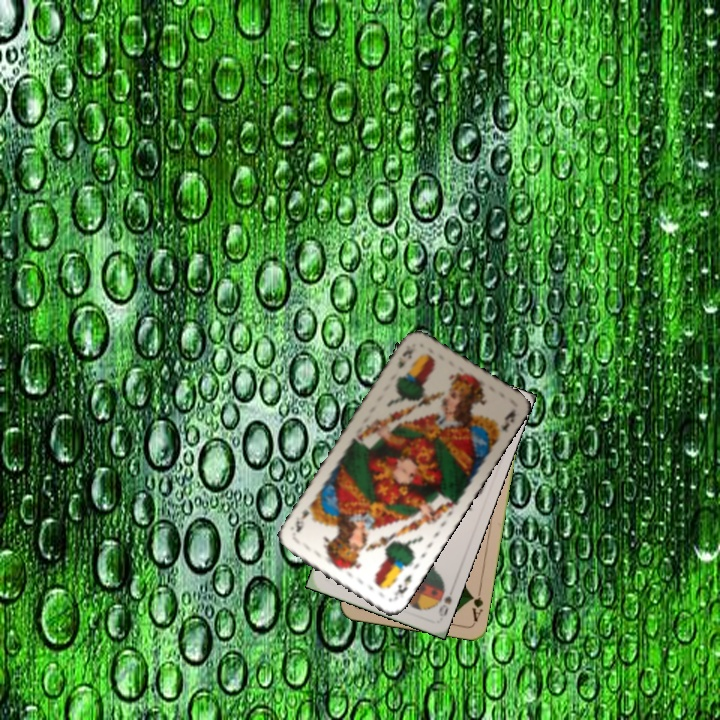EK: (390, 570, 414, 602), (394, 343, 418, 371)
GA: (467, 584, 486, 624)
SO: (430, 578, 454, 619)
